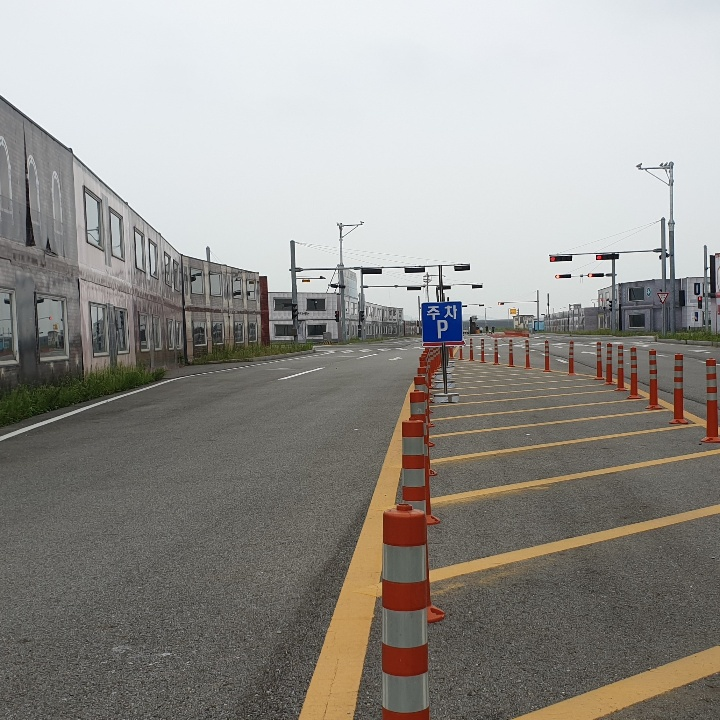parking: (432, 315, 454, 340)
